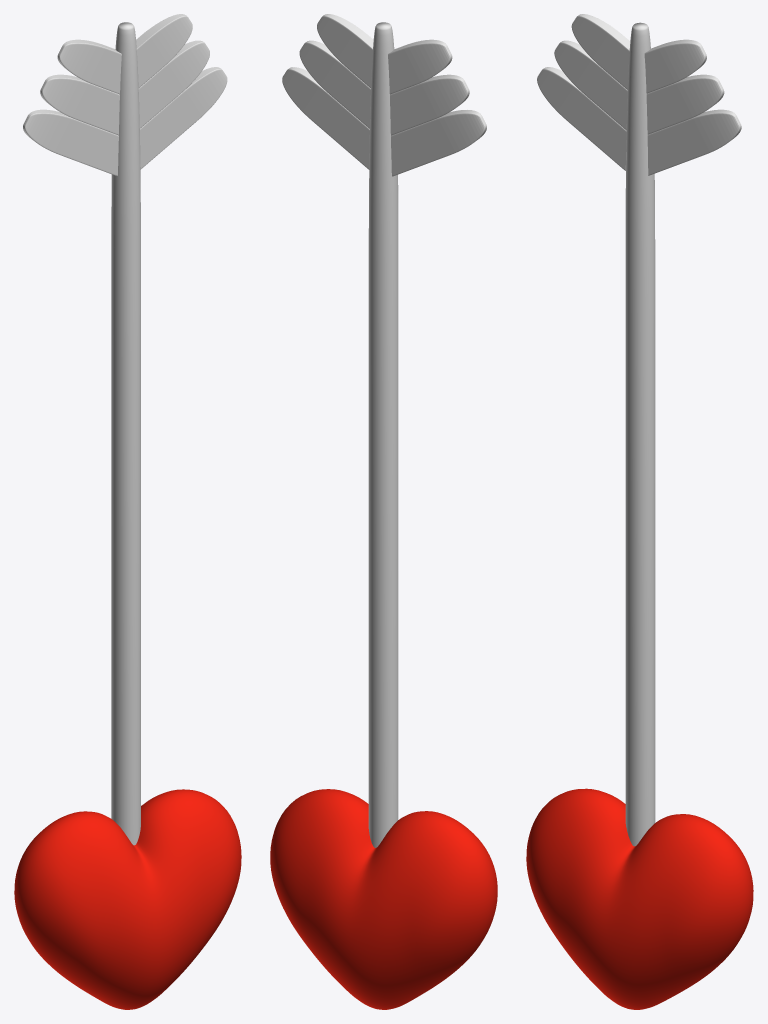
File: lovearrow.fbx
3 views of the same model, side by side, from view 1: azimuth 30°, elevation 25°; view 2: azimuth 150°, elevation 25°; view 3: azimuth 330°, elevation 25° (orthographic).
Visible parts, largest first — view 1: Cube.002, Cylinder, Cube.006, Cube, Cube.005, Cube.001, Cube.004, Cube.003; view 2: Cube.002, Cylinder, Cube.006, Cube, Cube.005, Cube.001, Cube.004, Cube.003; view 3: Cube.002, Cylinder, Cube, Cube.006, Cube.001, Cube.005, Cube.004, Cube.003.
Part boxes in pixels (x1,y1,x2,y2): Cube.002: (14, 789, 241, 1009); Cylinder: (111, 22, 140, 845); Cube.006: (23, 109, 118, 176); Cube: (140, 67, 227, 169); Cube.005: (40, 74, 119, 135); Cube.001: (138, 40, 209, 128); Cube.004: (57, 39, 121, 94); Cube.003: (136, 14, 192, 87); Cube.002: (270, 789, 497, 1009); Cylinder: (368, 22, 398, 847); Cube.006: (391, 110, 486, 176); Cube: (282, 67, 369, 169); Cube.005: (390, 74, 469, 135); Cube.001: (299, 40, 370, 128); Cube.004: (388, 39, 452, 94); Cube.003: (317, 14, 373, 88); Cube.002: (526, 788, 753, 1009); Cylinder: (625, 22, 655, 846); Cube: (647, 109, 741, 175); Cube.006: (537, 67, 626, 170); Cube.001: (646, 74, 724, 134); Cube.005: (554, 40, 627, 130); Cube.004: (571, 14, 630, 89); Cube.003: (644, 39, 706, 93).
Size of the model in its own units: 26.13 by 113 by 13.71.
